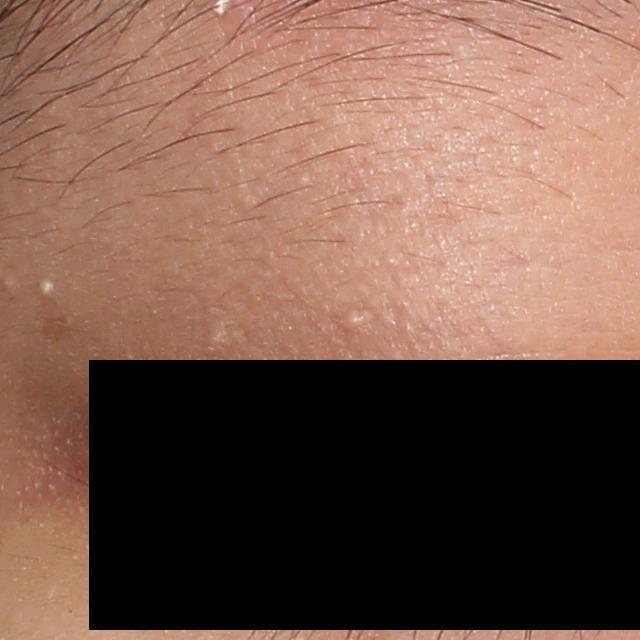comedo: (2, 273, 19, 294)
other: (36, 278, 54, 295)
